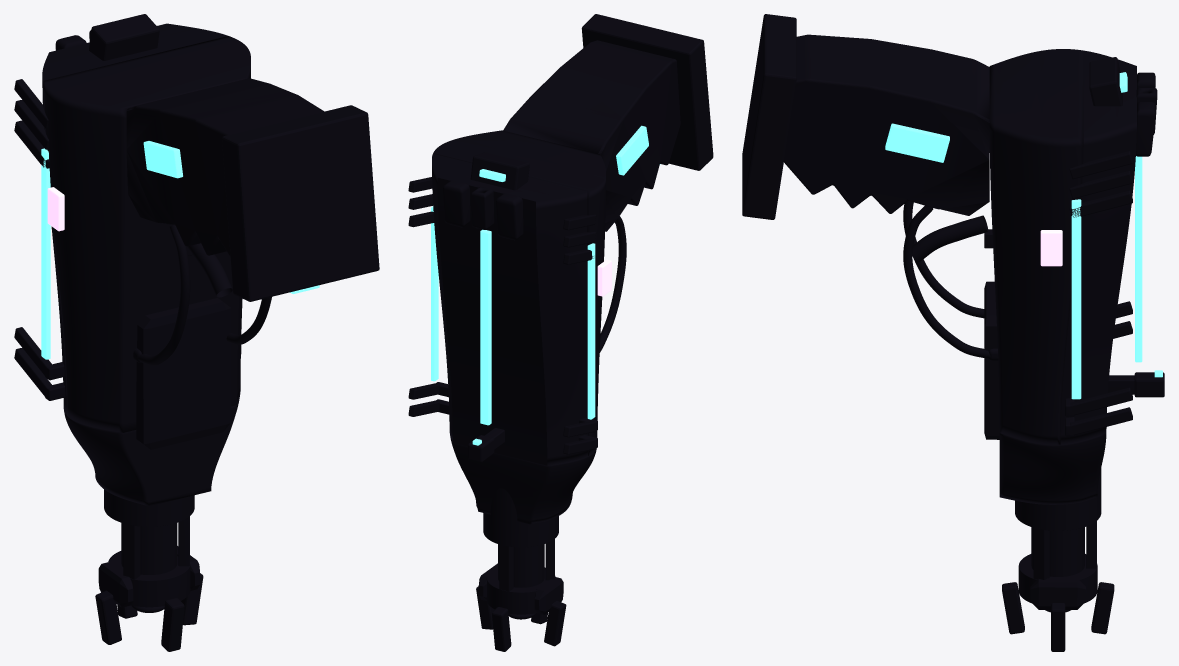
Rendered from CyberPulsePistol.fbx.
3 renders of one model, left to right at view 1: azimuth 30°, elevation 25°; view 2: azimuth 150°, elevation 25°; view 3: azimuth 270°, elevation 25°, orthographic. The views are drawn at different scales.
Parts seen in each view (by area): view 1: CPP_main angular receiver, CPP_magazine base plate, CPP_integrated contoured grip body, CPP_underbarrel accessory rail, CPP_front squared compensator, CPP_upper black slide, CPP_muzzle crown prongs, CPP_rear charging block, CPP_black outer barrel sleeve, CPP_muzzle gray outer metal collar, CPP_inner cyan energy barrel, CPP_rear slide serrations (+10 smaller); view 2: CPP_upper black slide, CPP_integrated contoured grip body, CPP_main angular receiver, CPP_magazine base plate, CPP_front squared compensator, CPP_cyan slide energy strips, CPP_black outer barrel sleeve, CPP_cyan top spine energy strip, CPP_rear slide serrations, CPP_muzzle crown prongs, CPP_front slide serrations, CPP_rear charging block (+12 smaller); view 3: CPP_main angular receiver, CPP_integrated contoured grip body, CPP_upper black slide, CPP_magazine base plate, CPP_front squared compensator, CPP_rear slide serrations, CPP_muzzle crown prongs, CPP_black outer barrel sleeve, CPP_front slide serrations, CPP_cyan slide energy strips, CPP_underbarrel accessory rail, CPP_right trigger guard (+12 smaller).
Boxes of the visible parts, x1,y1,x2,y2 form: CPP_main angular receiver: (43,36,250,432); CPP_magazine base plate: (222,105,379,301); CPP_integrated contoured grip body: (126,78,324,256); CPP_underbarrel accessory rail: (136,298,231,449); CPP_front squared compensator: (64,396,239,506); CPP_upper black slide: (42,23,227,414); CPP_muzzle crown prongs: (95,573,203,651); CPP_rear charging block: (89,14,159,60); CPP_black outer barrel sleeve: (104,489,194,526); CPP_muzzle gray outer metal collar: (108,551,190,607); CPP_inner cyan energy barrel: (121,523,177,574); CPP_rear slide serrations: (14,79,49,168); CPP_upper black slide: (432,153,587,465); CPP_integrated contoured grip body: (503,40,680,231); CPP_main angular receiver: (433,130,605,455); CPP_magazine base plate: (581,14,713,170); CPP_front squared compensator: (450,435,596,524); CPP_cyan slide energy strips: (431,206,595,419); CPP_black outer barrel sleeve: (483,488,558,547); CPP_cyan top spine energy strip: (480,229,491,425); CPP_rear slide serrations: (408,177,596,264); CPP_muzzle crown prongs: (476,586,566,651); CPP_front slide serrations: (408,383,595,454); CPP_rear charging block: (470,152,529,190); CPP_main angular receiver: (989,49,1083,444); CPP_integrated contoured grip body: (784,34,989,215); CPP_upper black slide: (1060,50,1136,444); CPP_magazine base plate: (742,14,796,219); CPP_front squared compensator: (999,433,1106,504); CPP_rear slide serrations: (1069,151,1132,217); CPP_muzzle crown prongs: (1002,582,1114,651); CPP_black outer barrel sleeve: (1015,468,1101,530); CPP_front slide serrations: (1070,301,1132,435); CPP_cyan slide energy strips: (1071,199,1081,399); CPP_underbarrel accessory rail: (984,281,999,439); CPP_right trigger guard: (903,205,990,358).
Bounding box in the file's own units: 36.36 × 107 × 69.83.
